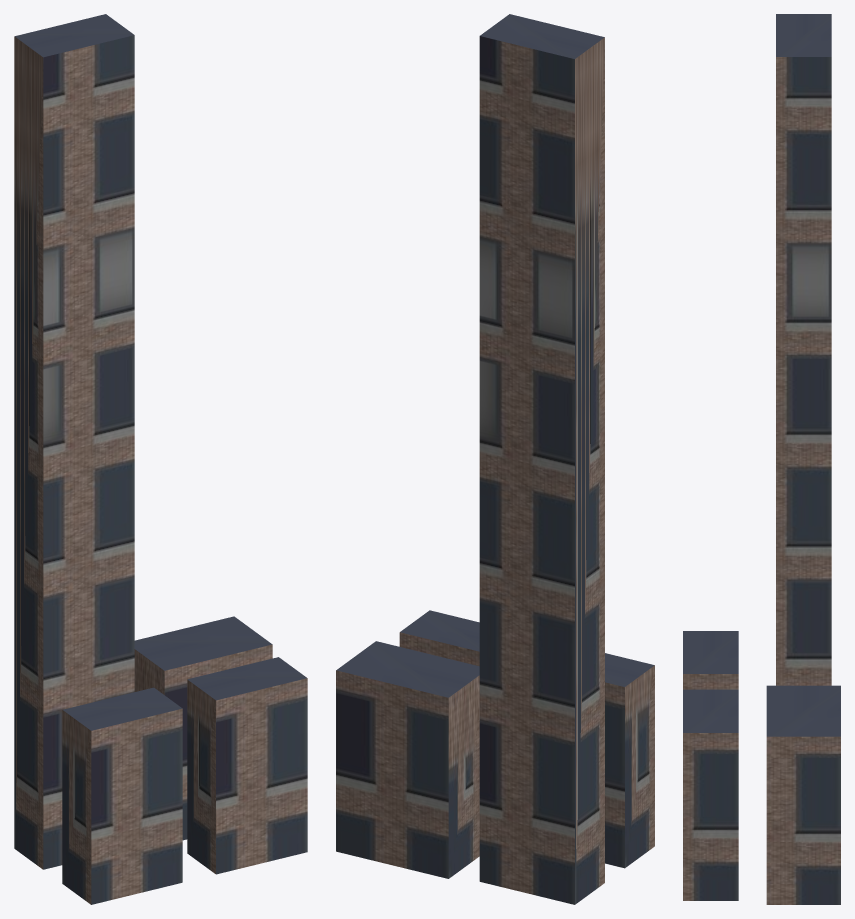
File: block_15.obj
3 renders of one model, left to right at view 1: azimuth 30°, elevation 25°; view 2: azimuth 150°, elevation 25°; view 3: azimuth 270°, elevation 25°, orthographic. The views are drawn at different scales.
Visible parts, largest first — view 1: b0, b3, b1, b2; view 2: b0, b2, b1, b3; view 3: b0, b2, b3, b1.
Part boxes in pixels (left/top/right/bottom): b0: left=14, top=14, right=134, bottom=869; b3: left=187, top=657, right=307, bottom=874; b1: left=62, top=687, right=182, bottom=904; b2: left=134, top=616, right=272, bottom=840; b0: left=479, top=14, right=604, bottom=904; b2: left=336, top=641, right=479, bottom=878; b1: left=605, top=653, right=654, bottom=868; b3: left=399, top=610, right=479, bottom=666; b0: left=776, top=14, right=831, bottom=685; b2: left=766, top=685, right=840, bottom=904; b3: left=683, top=689, right=738, bottom=900; b1: left=683, top=631, right=738, bottom=689.
Bounding box in the file's own units: 4.05 × 14 × 2.55.
